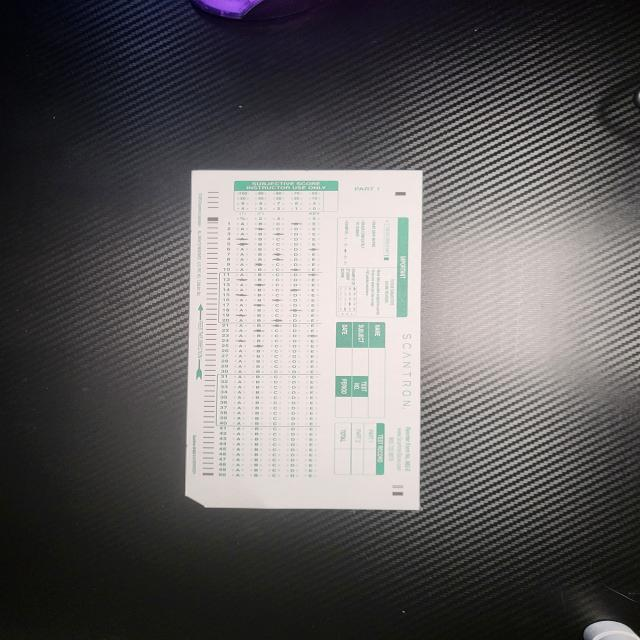scantron: (185, 170, 423, 510)
